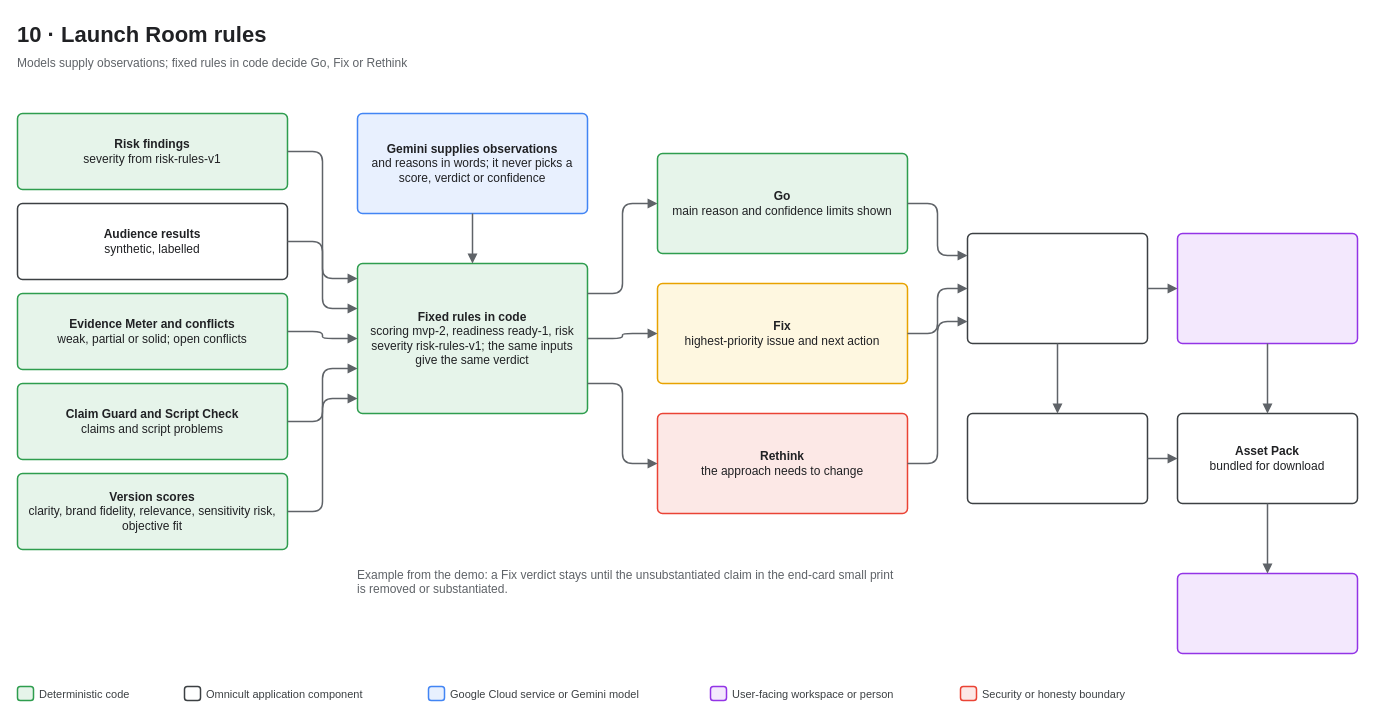
Image size: 1376x720. Some labels were removed from this diagram. Here are the shapes that lost their labels. From the top down, the centre of each, then its label:
At (x=1057, y=288): "Approvals decision, reason and the verdict at decision, with the person".
At (x=1267, y=288): "Review Links expiring, revocable; sign-off outside the team".
At (x=1057, y=458): "Region Plan which version goes to which region".
At (x=1267, y=613): "Proof Report readiness and approvals recorded".
